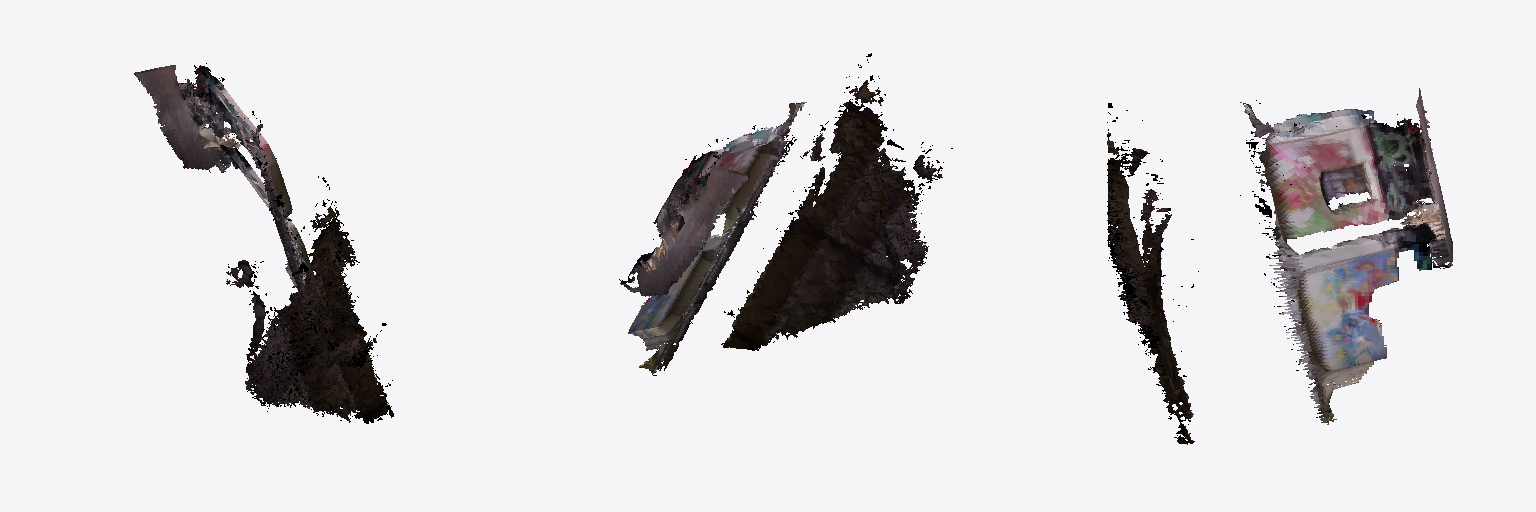
3 renders of one model, left to right at view 1: azimuth 30°, elevation 25°; view 2: azimuth 150°, elevation 25°; view 3: azimuth 270°, elevation 25°, orthographic.
Bounding box in the file's own units: 8.85 × 12.01 × 12.94.
1 materials, 1 textured.